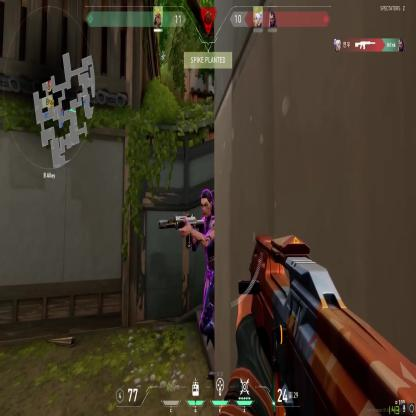enemy: (200, 188, 221, 359)
enemy_head: (200, 189, 212, 220)
